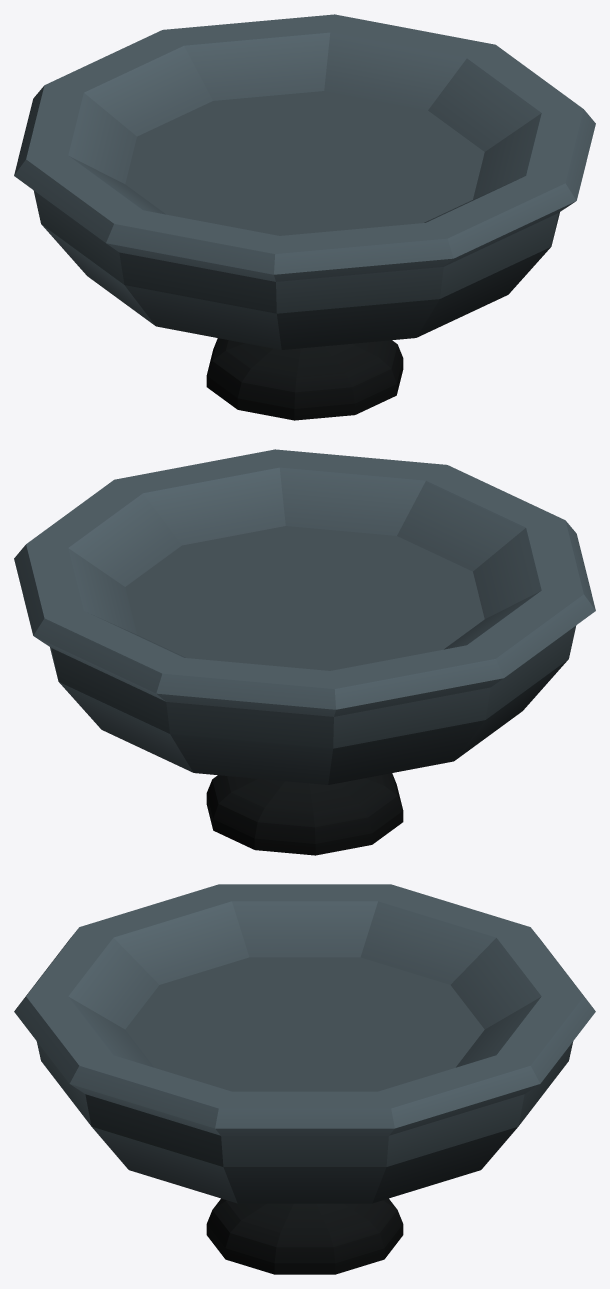
Rendered from RoundVase_Base.fbx.
The picture shows the model from 3 angles, top to bottom: view 1: azimuth 30°, elevation 25°; view 2: azimuth 150°, elevation 25°; view 3: azimuth 270°, elevation 25°; orthographic projection. The views are drawn at different scales.
Parts seen in each view (by area): view 1: RoundVase_Base; view 2: RoundVase_Base; view 3: RoundVase_Base.
Boxes of the visible parts, <box> form: RoundVase_Base: <box>14,14,595,420</box>; RoundVase_Base: <box>14,449,595,855</box>; RoundVase_Base: <box>14,884,595,1274</box>.
Size of the model in its own units: 280 by 133 by 294.
